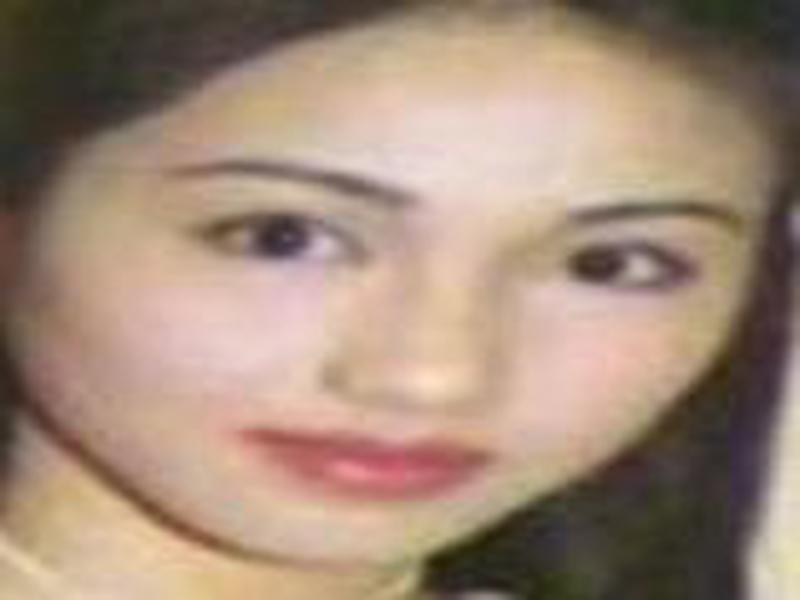without_mask: (9, 63, 775, 568)
